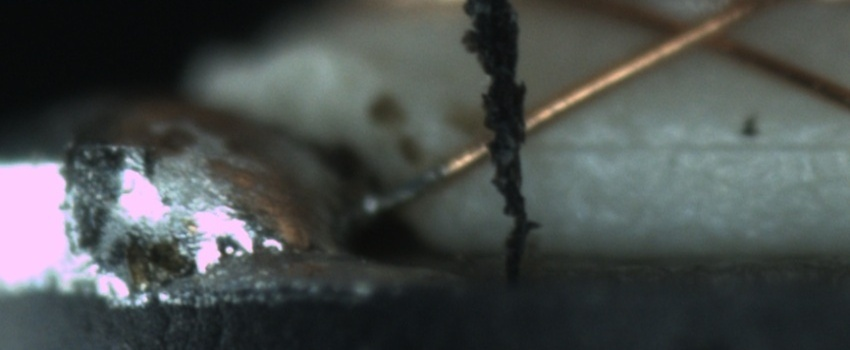CL: (634, 2, 767, 66)
DL: (538, 116, 849, 180)
TS: (363, 165, 450, 220)
TTCW: (361, 153, 449, 219)
